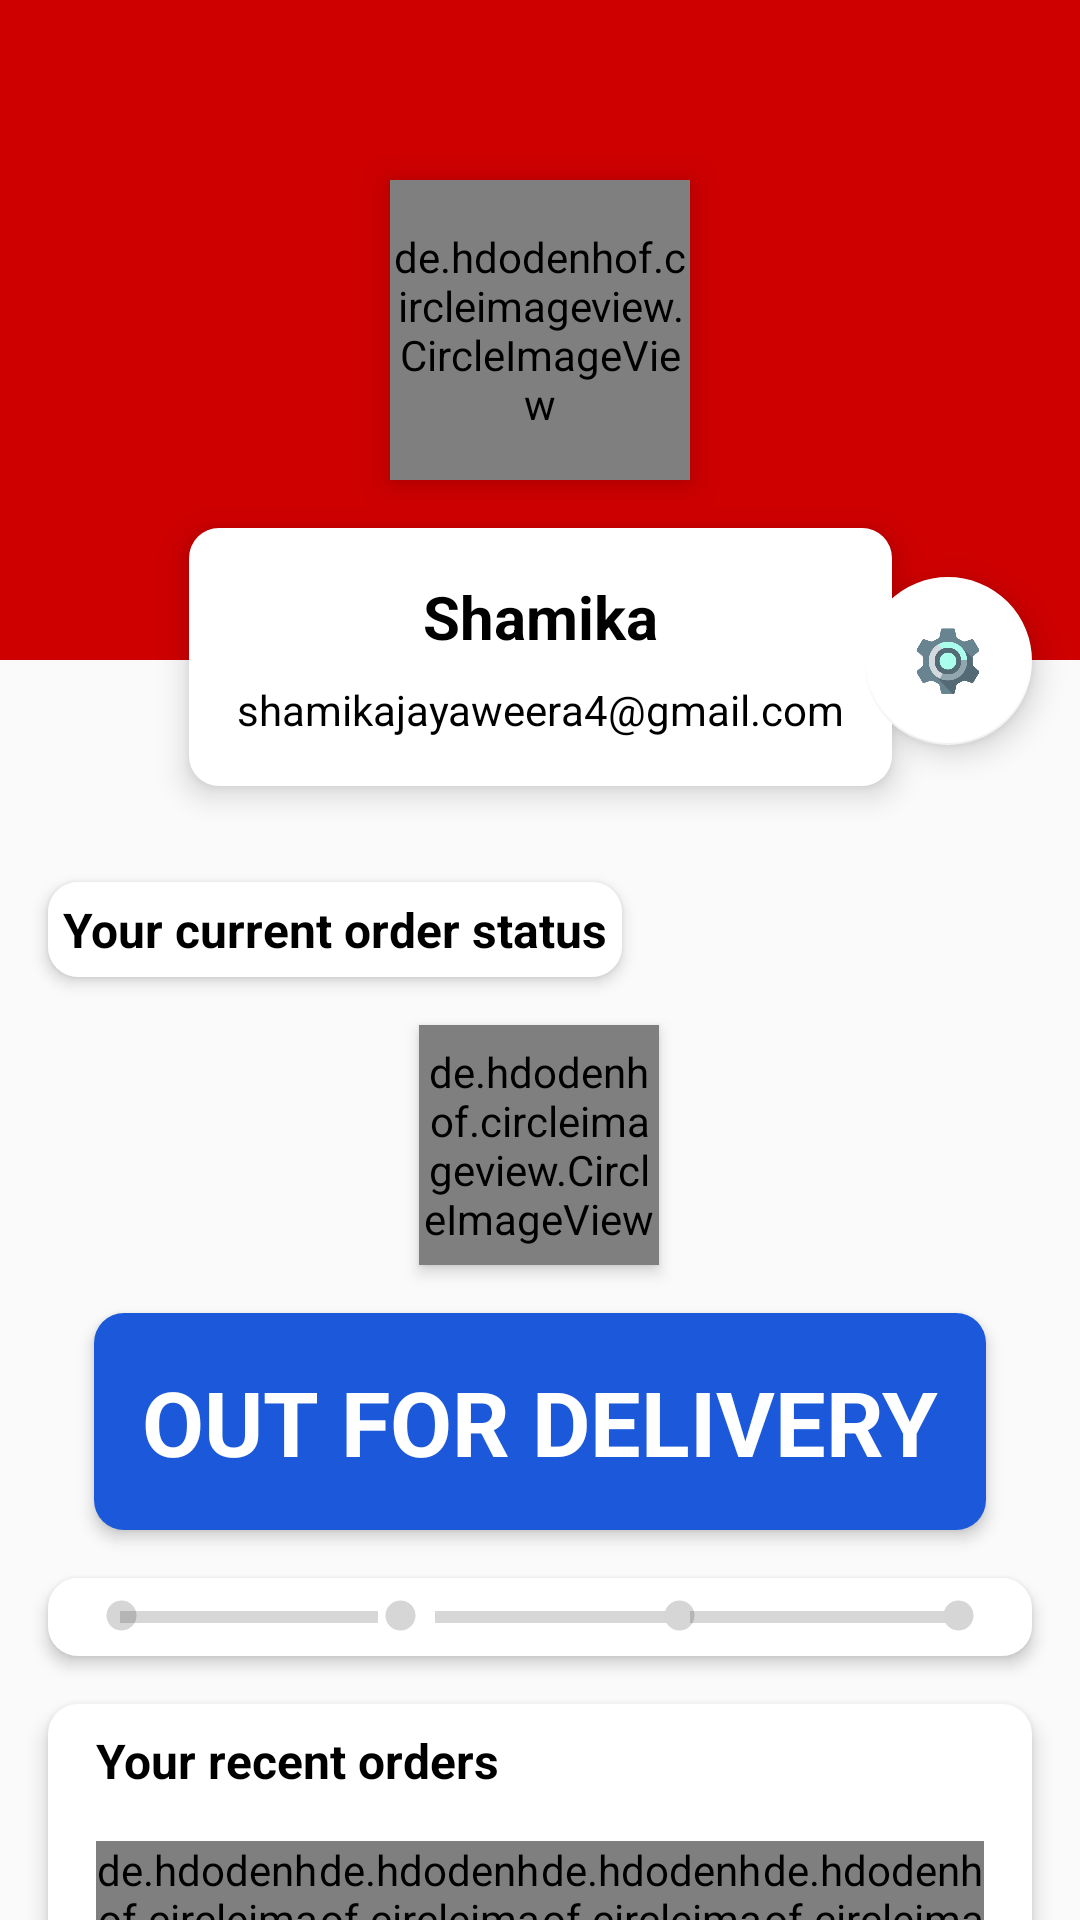

Where to tap for icons on this 1080px×1920px app screen, as (x,y):
settings: (948,661)
